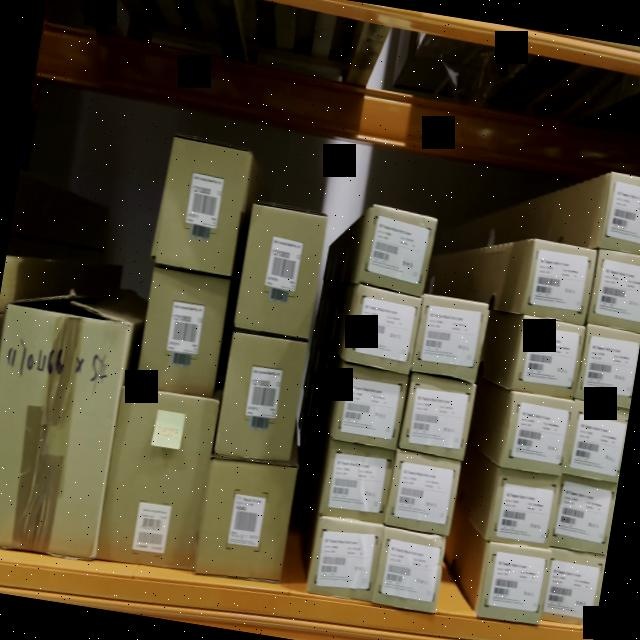box: (0, 307, 129, 559), (94, 387, 218, 571), (194, 457, 298, 582), (233, 202, 328, 338), (157, 138, 252, 274), (214, 331, 308, 464), (136, 268, 230, 398), (397, 374, 476, 462), (386, 451, 462, 538), (331, 364, 409, 448), (318, 438, 396, 522), (306, 516, 384, 600), (522, 240, 598, 325), (360, 209, 436, 294), (347, 286, 422, 372), (498, 392, 576, 474), (476, 544, 552, 626), (487, 466, 562, 549), (414, 294, 488, 377), (510, 318, 586, 398), (374, 528, 446, 610), (565, 402, 630, 482), (550, 478, 618, 554), (542, 548, 607, 627), (576, 327, 640, 406), (587, 251, 640, 331), (600, 170, 640, 254)
